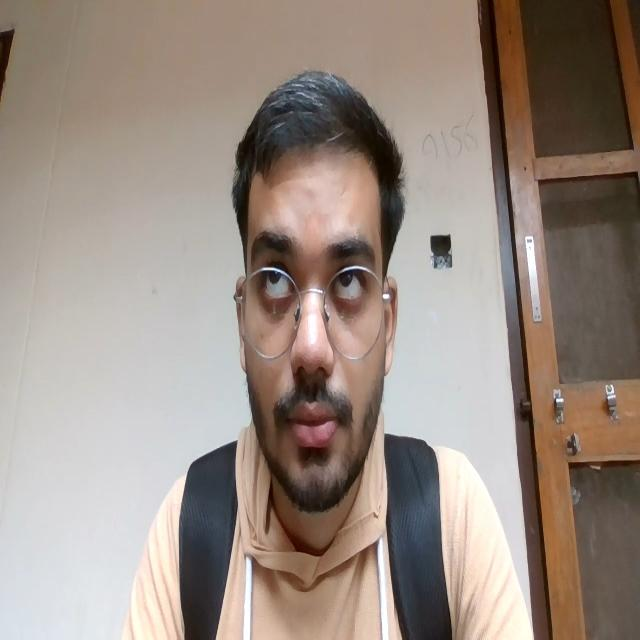awake: (250, 225, 370, 450)
